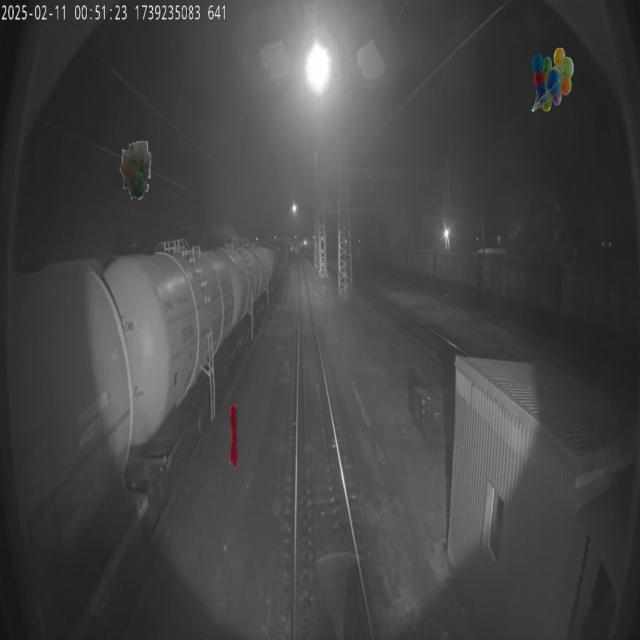balloon: (532, 48, 574, 112), (120, 136, 151, 200)
floating object: (229, 404, 238, 468)
